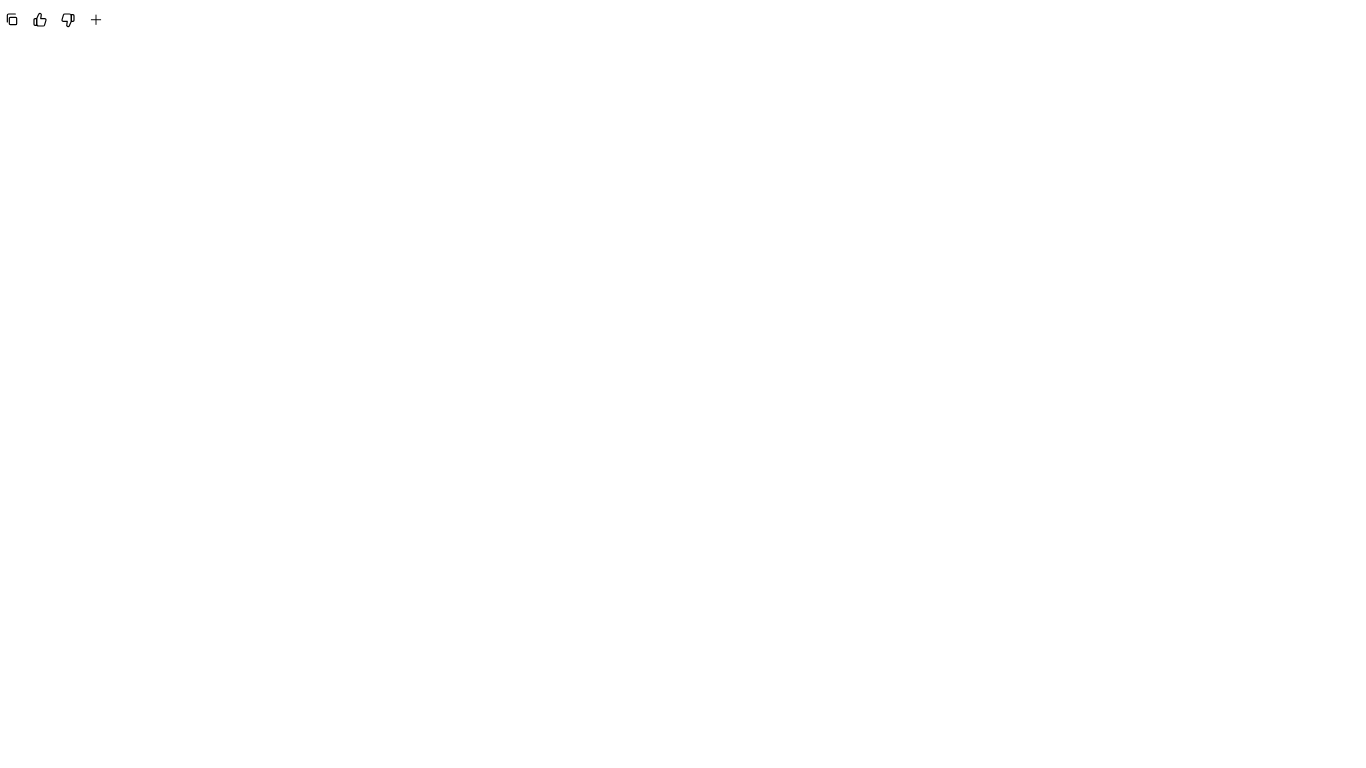
Test: MessageActions feedback controls › opens the rc.2 feedback dialog before submitting an unrecorded rating
This screenshot has width=1366, height=768.
Click the button named "Bad response" at (68, 20), box [56,8,80,32]
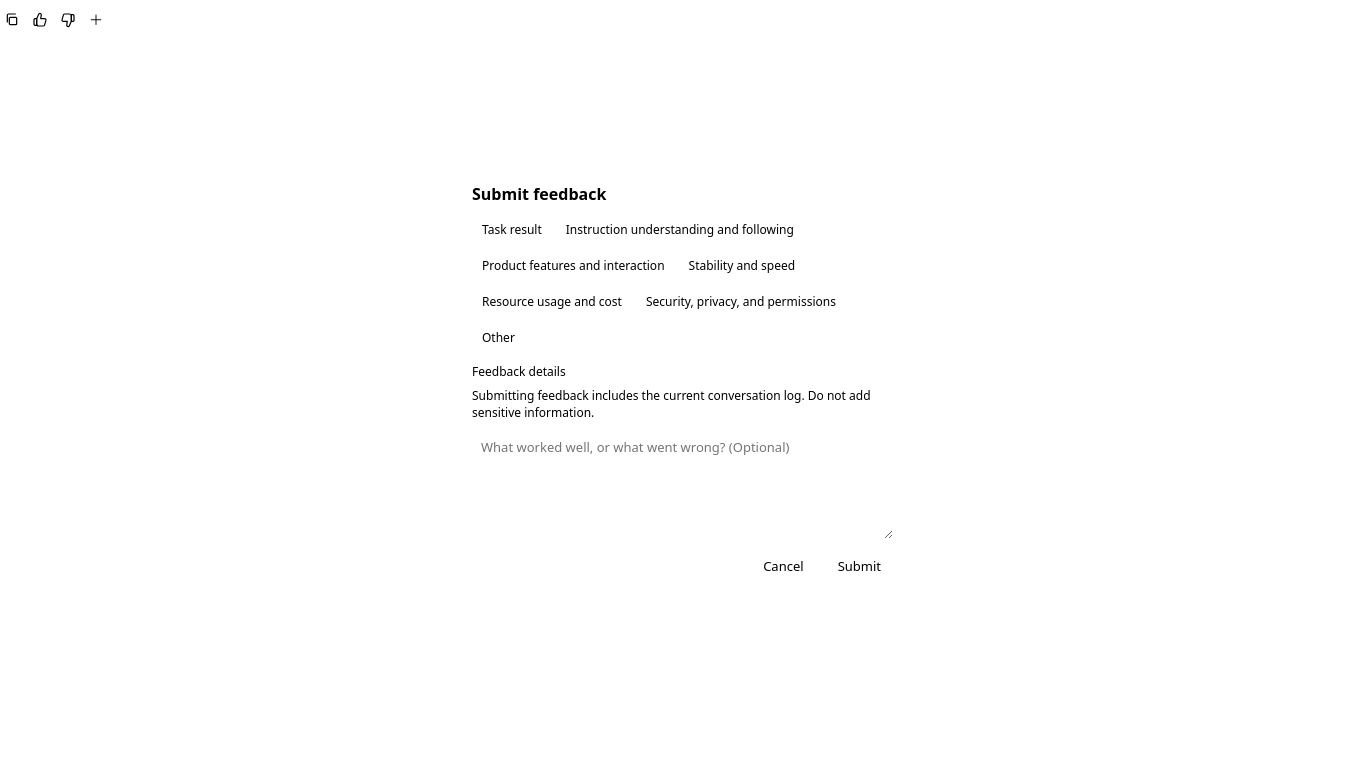
Now the dialog "Submit feedback" is shown, box [459,170,907,598]
Click the button "Task result" at (512, 231), box [472,215,552,247]
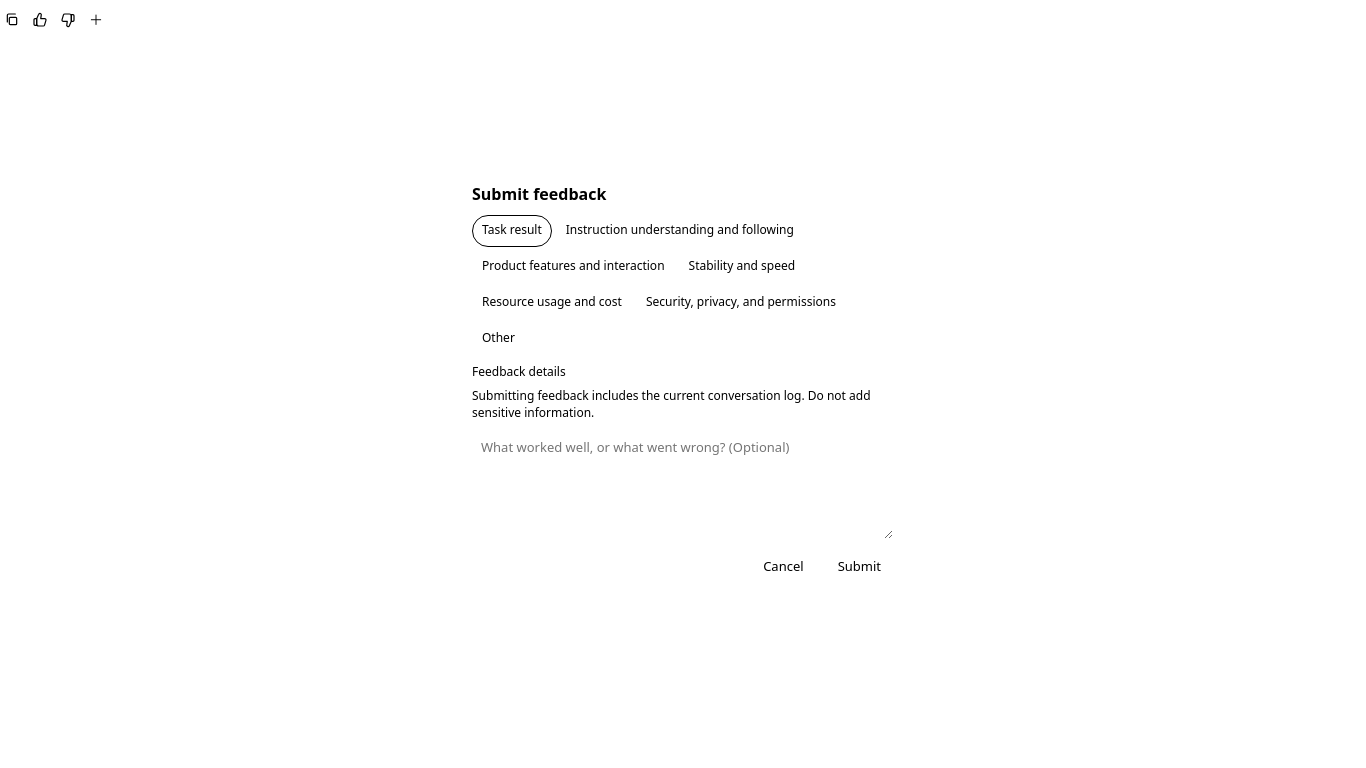
Type "needs work" into the text box labelled "Feedback details" at (683, 485), box [472,430,894,540]
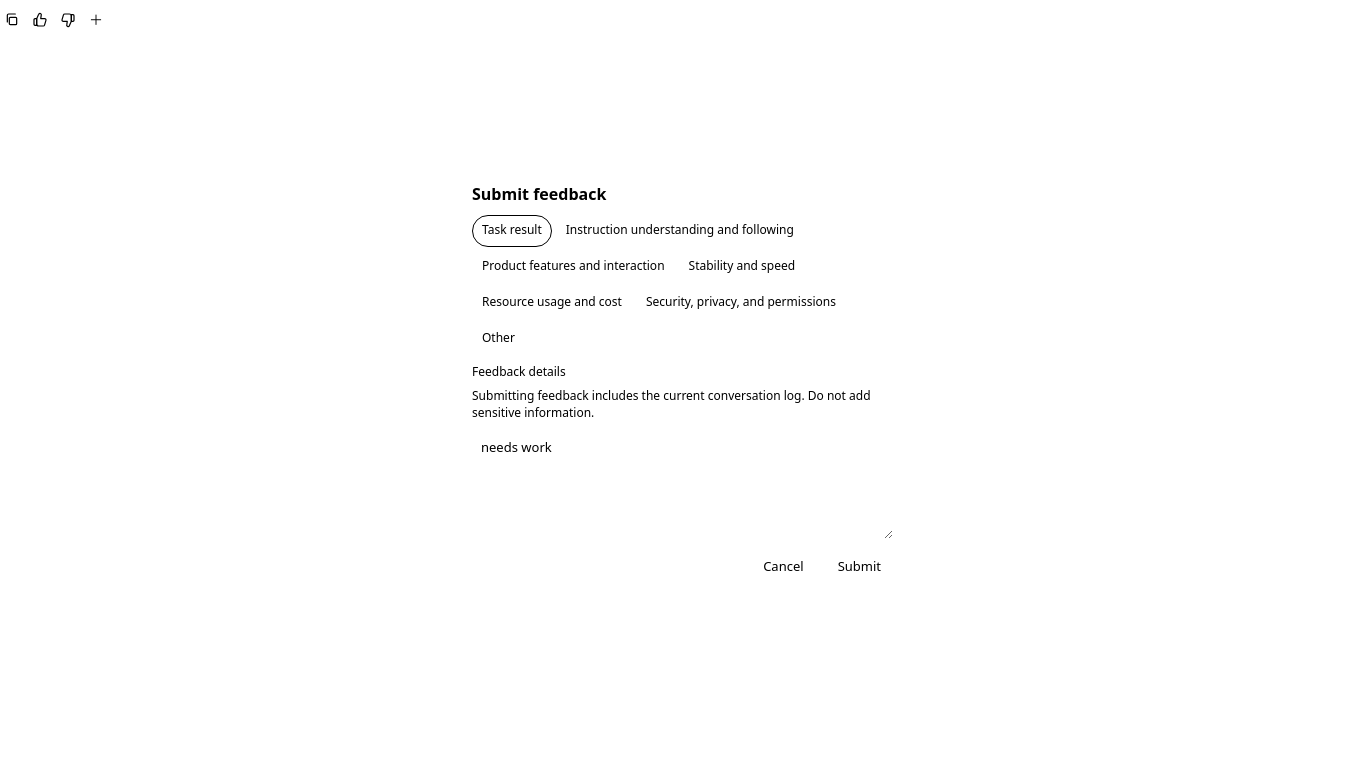
Click the button "Submit" at (859, 566), box [825,548,894,585]
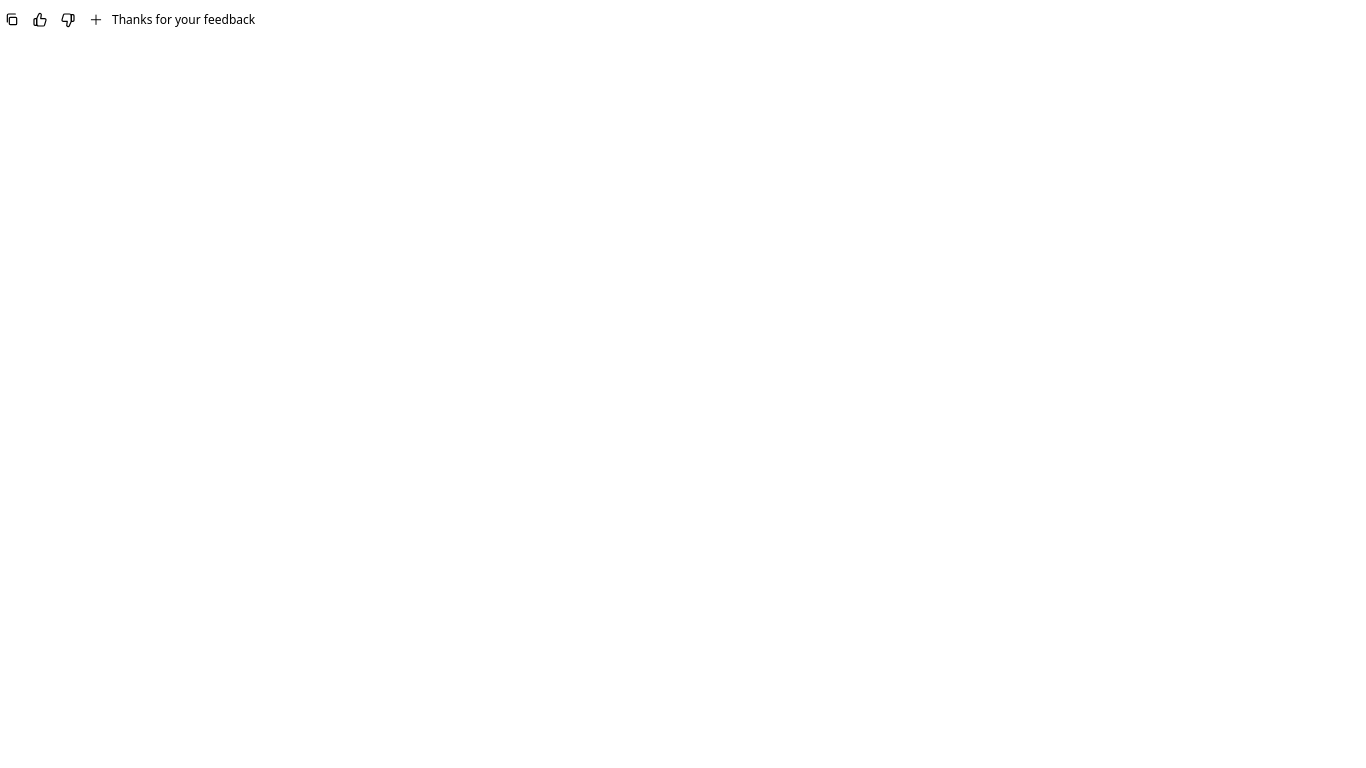
Now the heading "Submit feedback" is gone
Now the message reads "Thanks for your feedback", box [112,11,255,28]
